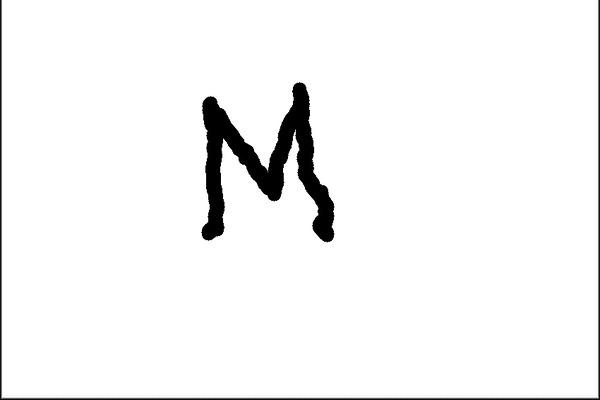M: (195, 78, 341, 245)
